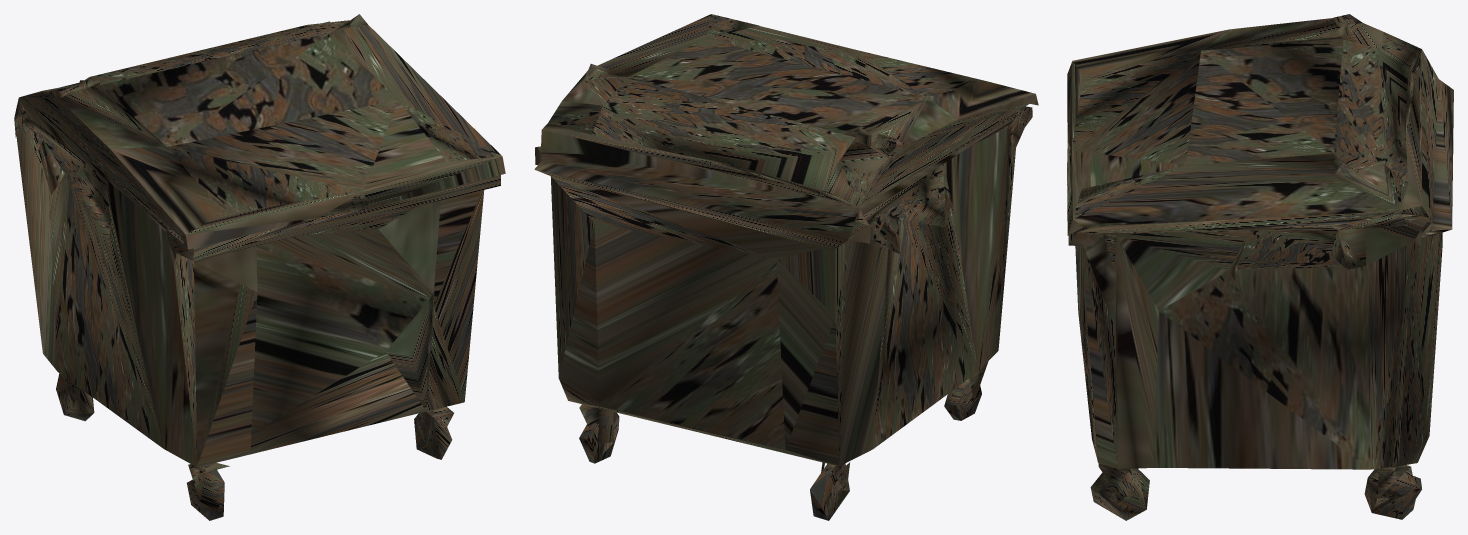
The model's file is Soviet_Dumpster_3000.glb.
The picture shows the model from 3 angles, left to right: view 1: azimuth 30°, elevation 25°; view 2: azimuth 150°, elevation 25°; view 3: azimuth 270°, elevation 25°; orthographic projection. The views are drawn at different scales.
Visible parts, largest first — view 1: output_unwrapped; view 2: output_unwrapped; view 3: output_unwrapped.
Part boxes in pixels (x1,y1,x2,y2): output_unwrapped: (14, 14, 505, 520); output_unwrapped: (534, 14, 1038, 520); output_unwrapped: (1067, 14, 1453, 520).
Bounding box in the file's own units: 1.91 × 1.93 × 1.81.
1 material, 1 textured.
